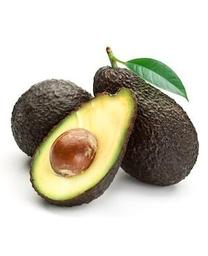avocado: (27, 88, 139, 207), (92, 66, 200, 186), (10, 79, 129, 164)
